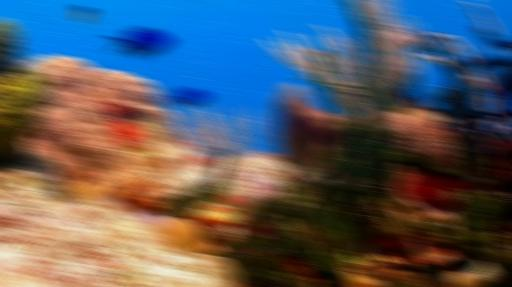Fish: (104, 26, 173, 58), (385, 71, 418, 113), (159, 88, 210, 107), (75, 7, 94, 23)
